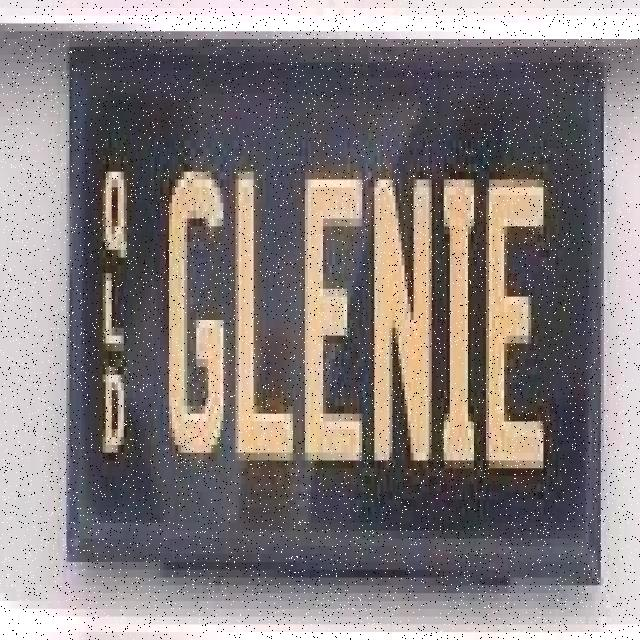licenseplate: (46, 24, 612, 612)
